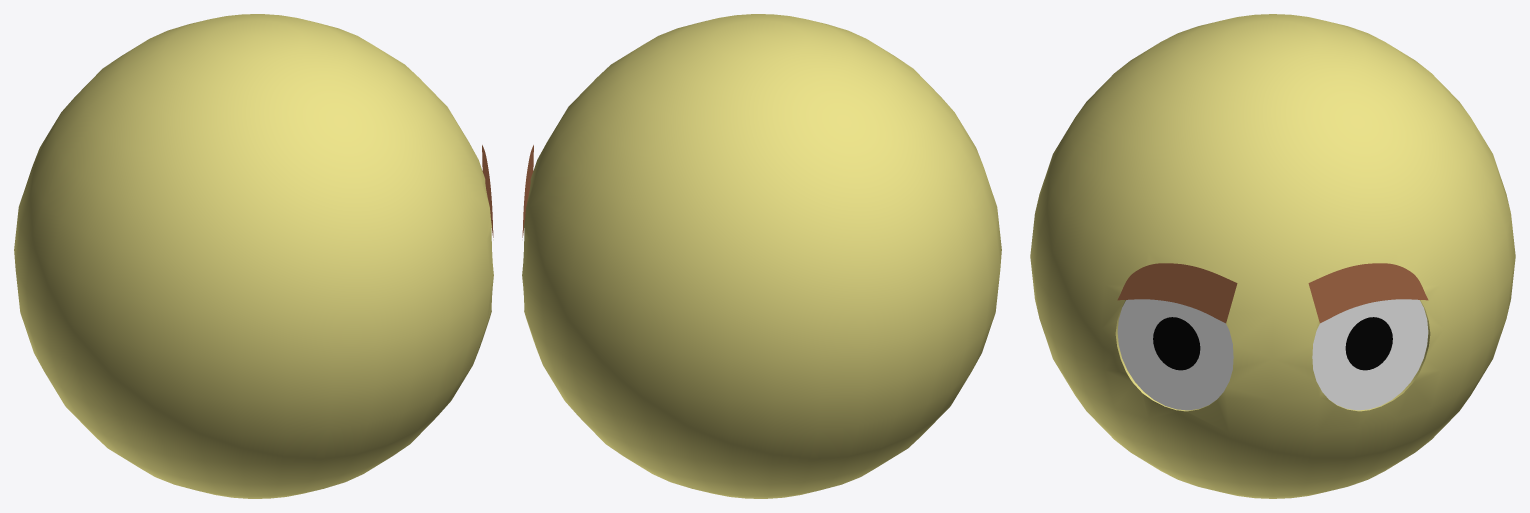
The picture shows the model from 3 angles, left to right: view 1: azimuth 30°, elevation 25°; view 2: azimuth 150°, elevation 25°; view 3: azimuth 270°, elevation 25°; orthographic projection.
Parts seen in each view (by area): view 1: Sphere, Sphere.001; view 2: Sphere, Sphere.001; view 3: Sphere, Sphere.001, Cylinder, Cylinder.001, Cylinder.003, BézierCurve.002, BézierCurve.001, Cylinder.002.
Part boxes in pixels (x1=…): Sphere: x1=14, y1=14, x2=493, y2=498; Sphere.001: x1=15, y1=16, x2=493, y2=498; Sphere: x1=522, y1=16, x2=1000, y2=498; Sphere.001: x1=522, y1=14, x2=1001, y2=498; Sphere: x1=1031, y1=14, x2=1515, y2=498; Sphere.001: x1=1030, y1=14, x2=1515, y2=498; Cylinder: x1=1117, y1=299, x2=1233, y2=410; Cylinder.001: x1=1312, y1=299, x2=1428, y2=408; Cylinder.003: x1=1312, y1=301, x2=1428, y2=410; BézierCurve.002: x1=1117, y1=263, x2=1237, y2=323; BézierCurve.001: x1=1308, y1=263, x2=1428, y2=323; Cylinder.002: x1=1117, y1=300, x2=1233, y2=410.
Size of the model in its own units: 25 by 25 by 25.
